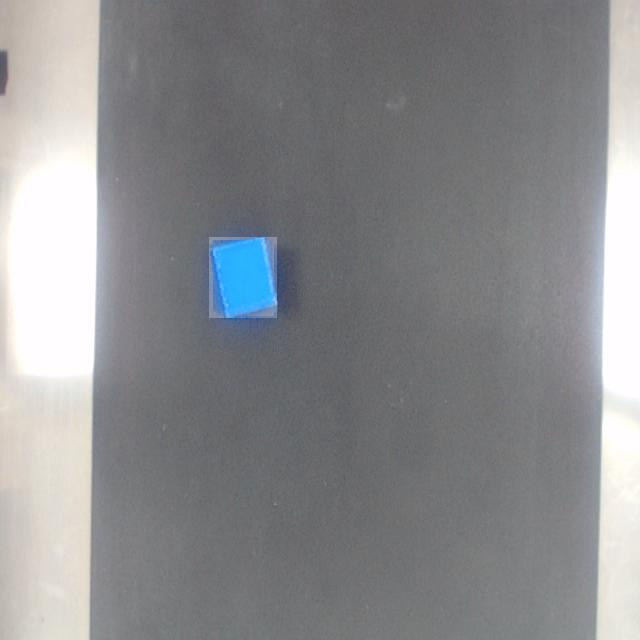Azul: (210, 237, 277, 318)
